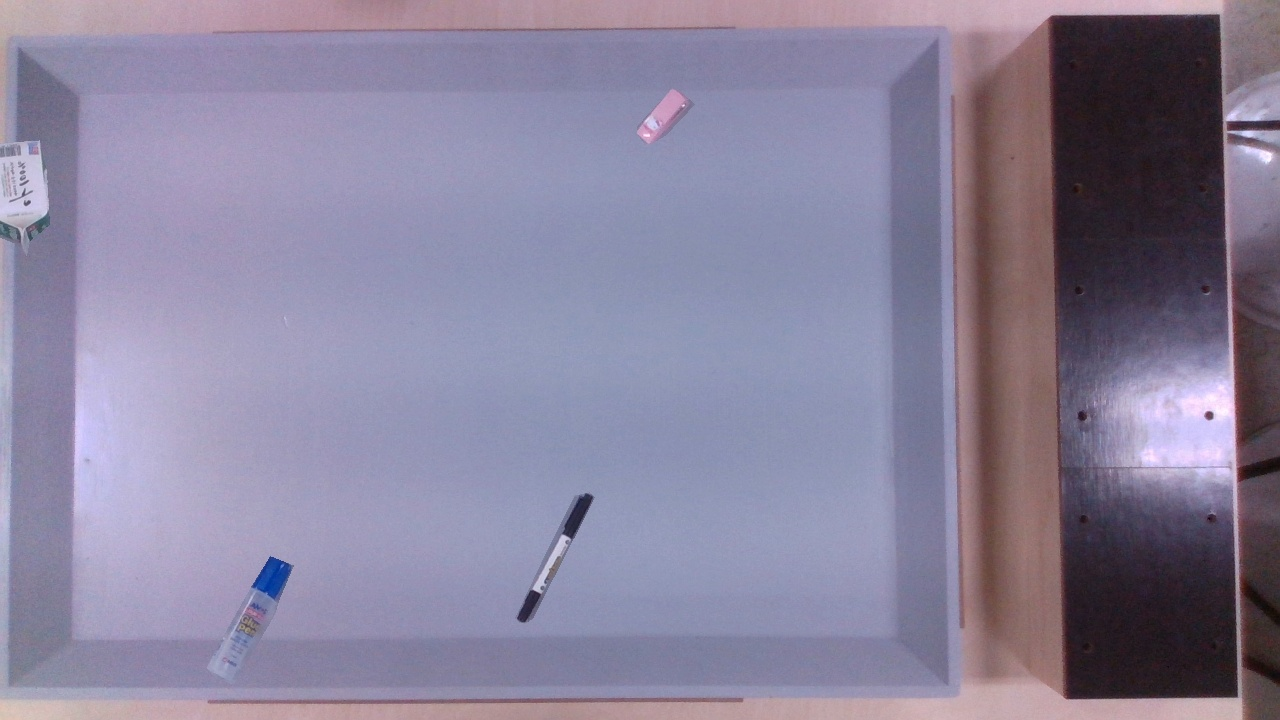Glue_pen: (206, 556, 293, 684)
Milk: (0, 140, 49, 255)
Pen_namepen: (515, 492, 594, 625)
Stapler_pink: (637, 88, 694, 146)
